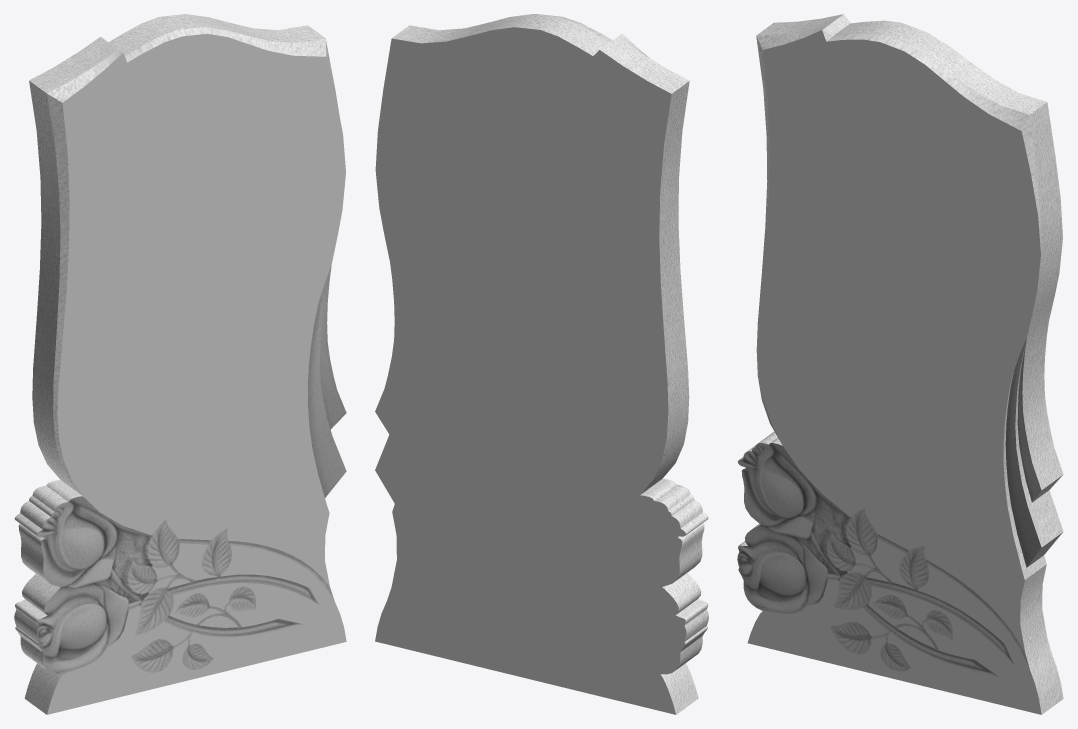
File: cn0bf1196000_tkf.glb
3 renders of one model, left to right at view 1: azimuth 30°, elevation 25°; view 2: azimuth 150°, elevation 25°; view 3: azimuth 330°, elevation 25°, orthographic. The views are drawn at different scales.
Visible parts, largest first — view 1: Pam-d03-033, Pam-d03-033_2_notexture; view 2: Pam-d03-033, Pam-d03-033_2_notexture; view 3: Pam-d03-033, Pam-d03-033_2_notexture.
Part boxes in pixels (x1,y1,x2,y2): Pam-d03-033: (47, 34, 346, 714); Pam-d03-033_2_notexture: (14, 14, 346, 714); Pam-d03-033: (375, 27, 686, 714); Pam-d03-033_2_notexture: (392, 14, 708, 714); Pam-d03-033: (747, 30, 1041, 714); Pam-d03-033_2_notexture: (737, 14, 1063, 714).
Bounding box in the file's own units: 0.4 × 0.8 × 0.05.
1 material, 1 textured.
